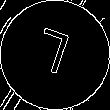L_S: (32, 26, 78, 84)
